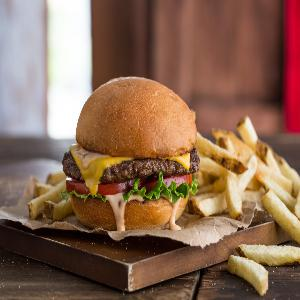cheeseburger: (64, 68, 200, 230)
fries: (203, 116, 300, 279)
